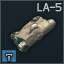LA-5B%5PEQ tactical device: (0, 0, 64, 64)
